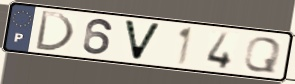1: (176, 25, 198, 68)
4: (204, 30, 236, 72)
6: (81, 17, 115, 57)
D: (33, 9, 77, 53)
Q: (241, 36, 284, 75)
V: (122, 18, 164, 63)
